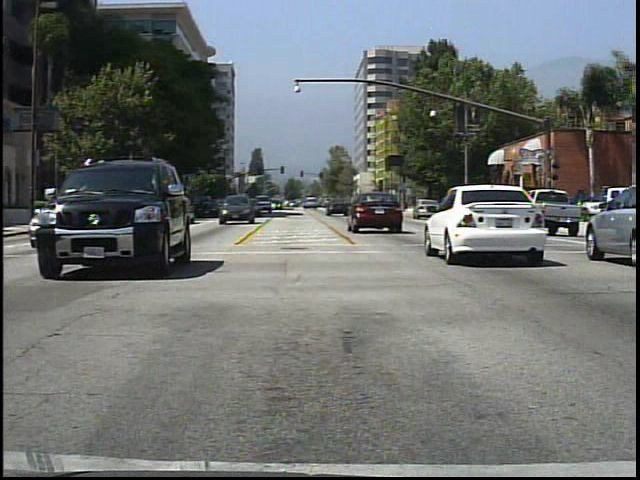person: (542, 191, 561, 228), (499, 188, 517, 224)
